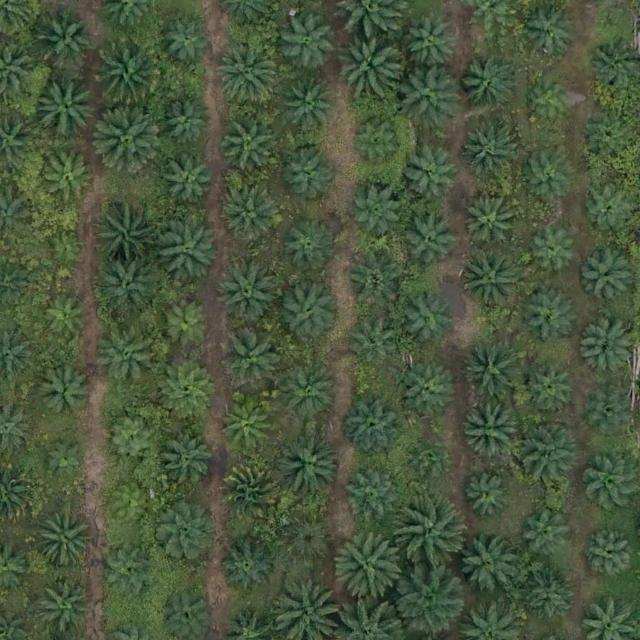Kelapa_Sawit: (396, 498, 466, 569), (392, 566, 462, 636), (334, 530, 404, 600), (93, 39, 163, 109), (91, 101, 161, 171), (514, 420, 576, 483), (343, 395, 405, 458), (275, 431, 337, 494), (34, 76, 96, 139), (99, 256, 161, 319), (96, 327, 158, 390), (157, 356, 219, 419), (159, 216, 221, 279), (219, 324, 281, 387), (217, 38, 279, 101), (220, 183, 282, 246), (277, 276, 339, 339), (275, 359, 337, 422), (335, 30, 397, 93), (400, 65, 462, 128), (459, 250, 521, 313), (461, 338, 523, 401), (460, 399, 522, 461), (456, 534, 518, 596), (153, 500, 215, 562), (221, 460, 283, 522), (34, 505, 96, 567), (215, 262, 277, 324), (519, 0, 581, 62), (581, 527, 636, 582), (519, 503, 574, 558), (277, 514, 332, 569), (345, 471, 400, 526), (218, 399, 273, 454), (221, 538, 276, 593), (40, 149, 95, 204), (40, 10, 95, 65), (280, 145, 335, 200), (281, 220, 336, 275), (352, 185, 407, 240), (348, 256, 403, 311), (406, 18, 461, 73), (401, 149, 456, 204), (403, 213, 458, 268), (398, 293, 453, 348), (462, 58, 517, 113), (462, 124, 517, 179), (584, 111, 639, 166), (104, 412, 159, 467), (521, 569, 575, 624), (155, 431, 209, 486), (101, 544, 155, 599), (40, 574, 94, 629), (37, 364, 91, 419), (98, 216, 152, 271), (98, 483, 152, 538), (160, 293, 214, 348), (158, 14, 212, 69), (162, 95, 216, 150), (159, 155, 213, 210), (220, 119, 274, 174), (282, 18, 336, 73), (282, 74, 336, 129), (346, 316, 400, 371), (348, 117, 402, 172), (402, 366, 456, 421), (463, 196, 517, 251), (523, 361, 577, 416), (523, 287, 577, 342), (527, 222, 581, 277), (520, 145, 574, 200), (582, 184, 636, 239), (581, 253, 635, 308), (579, 320, 633, 375), (526, 79, 572, 126), (463, 472, 509, 519), (588, 389, 634, 436), (43, 226, 89, 273), (41, 290, 87, 337), (42, 435, 88, 481), (407, 437, 445, 476)
